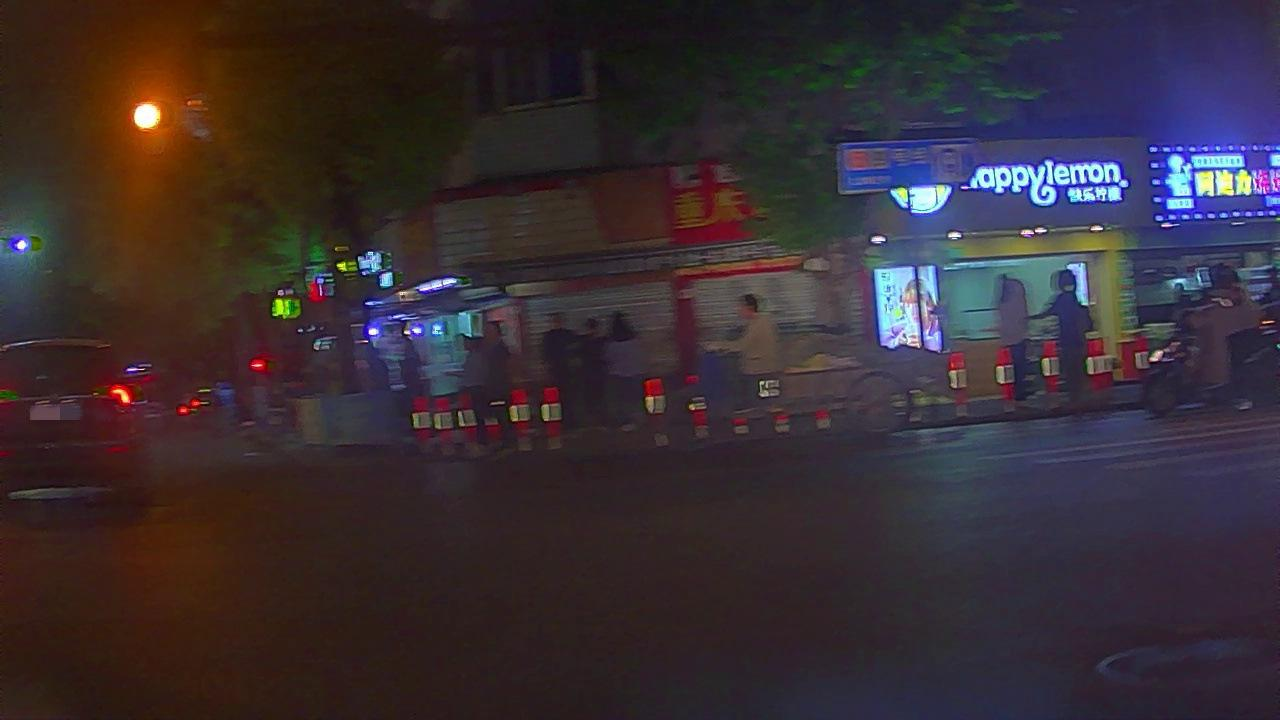traffic_light: (122, 90, 175, 139)
